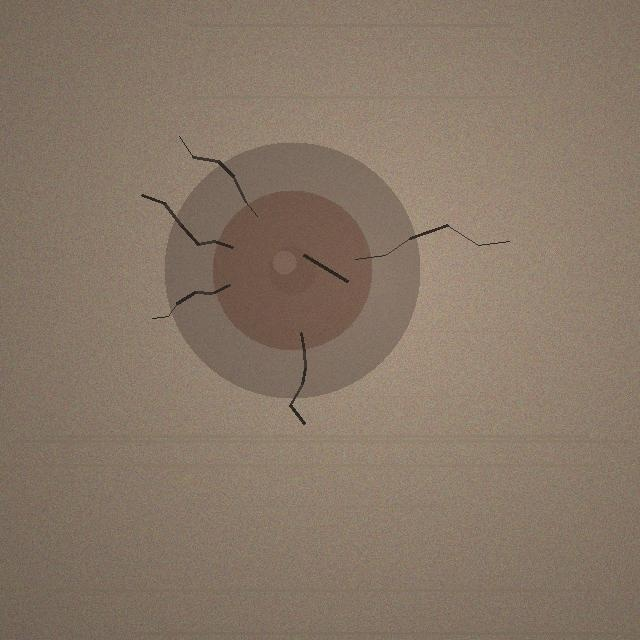crack: (164, 142, 420, 398)
